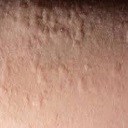Hives: (23, 8, 87, 42), (28, 56, 72, 80)
